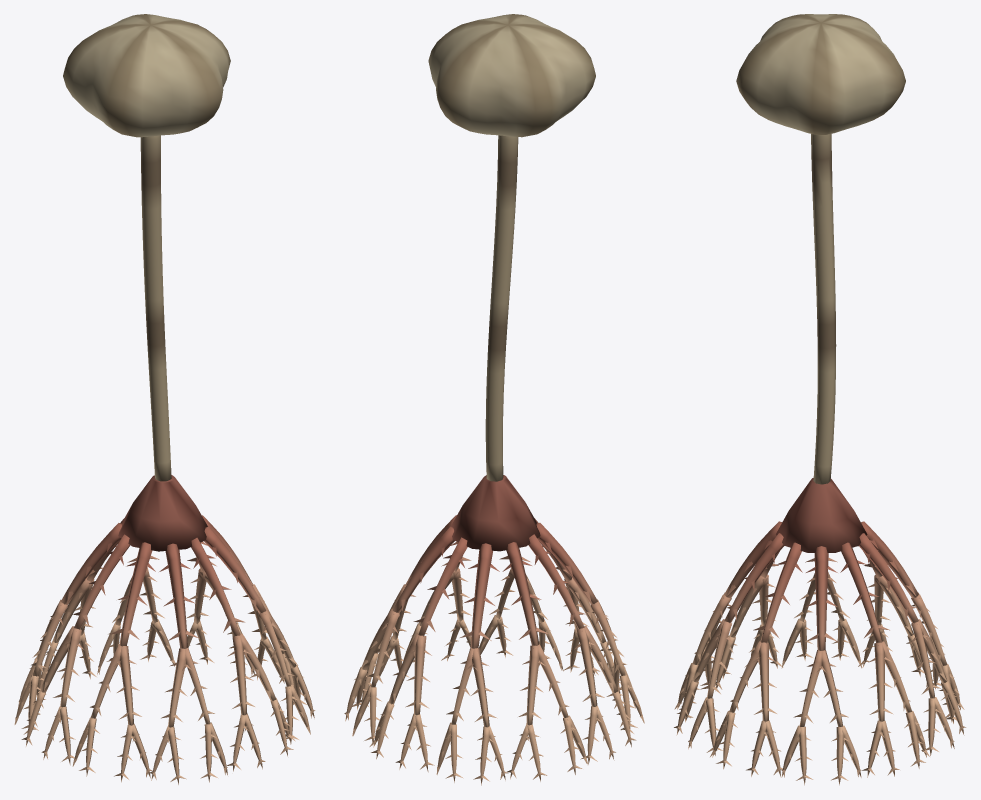
The model's file is ScyphocrinitesElegans.fbx.
3 renders of one model, left to right at view 1: azimuth 30°, elevation 25°; view 2: azimuth 150°, elevation 25°; view 3: azimuth 270°, elevation 25°, orthographic.
Visible parts, largest first — view 1: ScyphocrinitesElegans; view 2: ScyphocrinitesElegans; view 3: ScyphocrinitesElegans.
Boxes of the visible parts, <box> form: ScyphocrinitesElegans: <box>14,14,315,784</box>; ScyphocrinitesElegans: <box>344,14,644,785</box>; ScyphocrinitesElegans: <box>674,14,966,785</box>.
Size of the model in its own units: 0.9023 by 2.35 by 0.8953.
